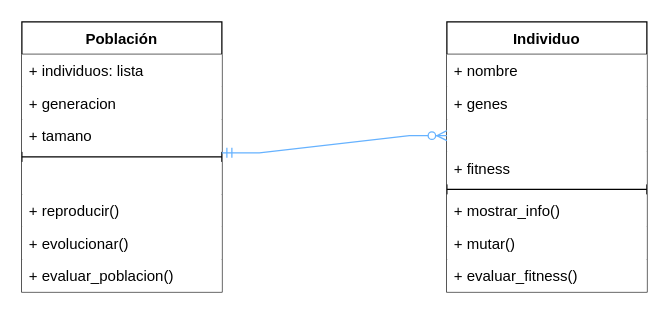
Image size: 669x318. Some labels were removed from this diagram. The centre of each missing label's shape, as x and y in pixels:
"+ fenotipo" goes at (x=546, y=135).
"+ mostrar_poblacion()" goes at (x=121, y=177).
